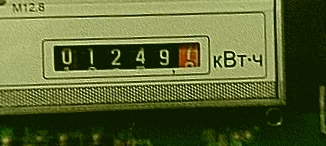0: (61, 47, 75, 67)
1: (86, 48, 97, 67)
2: (110, 48, 124, 68)
4: (135, 47, 147, 67)
7: (183, 43, 196, 63)
9: (158, 48, 172, 69)
screen: (35, 34, 211, 82)
